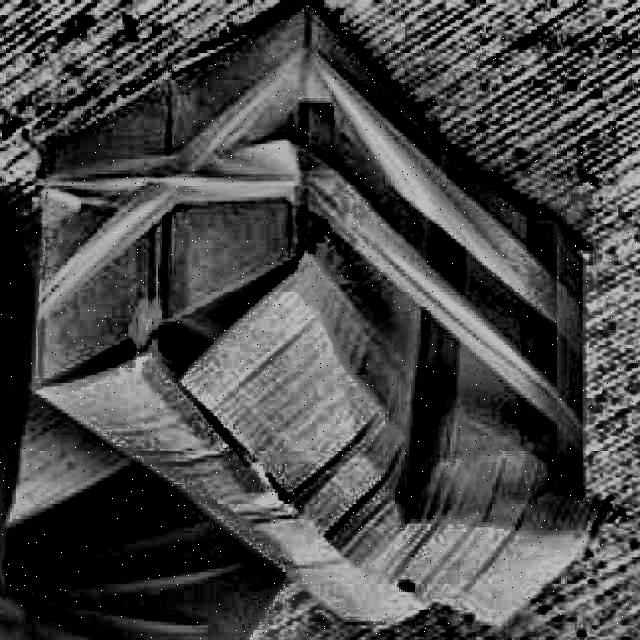box: (22, 1, 614, 640)
hole: (524, 448, 581, 502)
